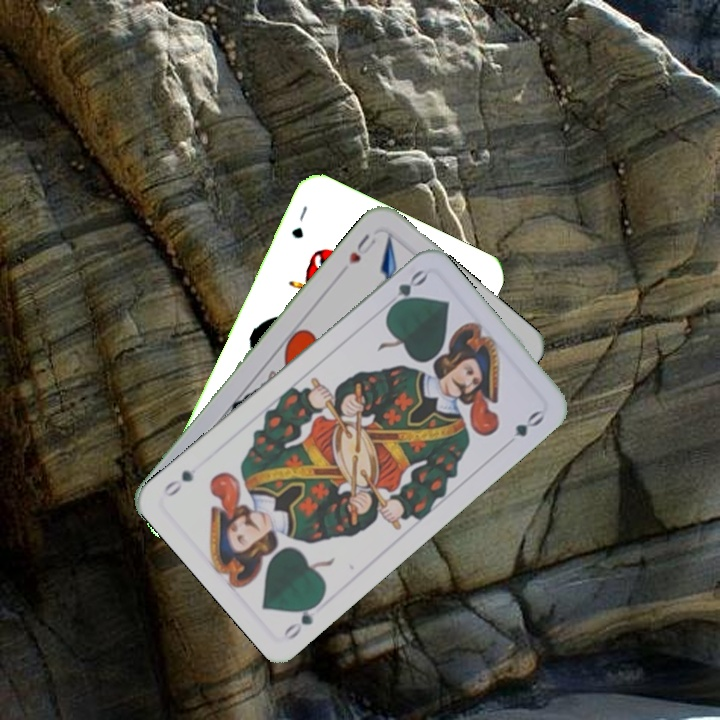GO: (379, 266, 430, 315), (279, 594, 325, 643)
GU: (287, 201, 310, 242)
HU: (344, 229, 379, 267)
